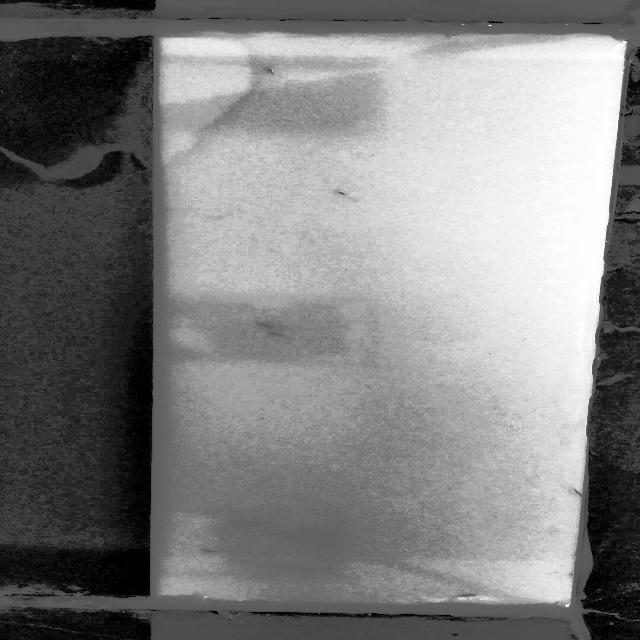shrimp: (263, 62, 282, 84), (330, 188, 358, 202), (446, 590, 482, 600), (252, 319, 280, 331), (265, 329, 296, 339), (242, 518, 269, 526), (202, 547, 225, 554)
